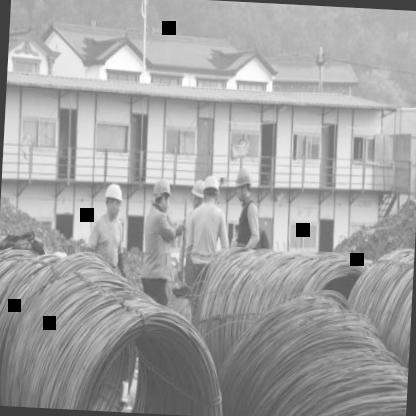helmet: (101, 178, 125, 223), (232, 166, 256, 204), (150, 177, 174, 214), (200, 172, 221, 207), (188, 179, 208, 213)
